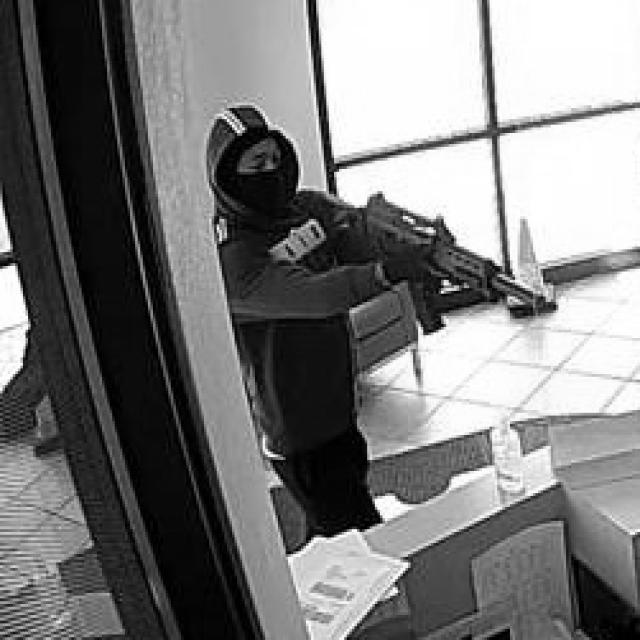gun: (360, 189, 544, 309)
